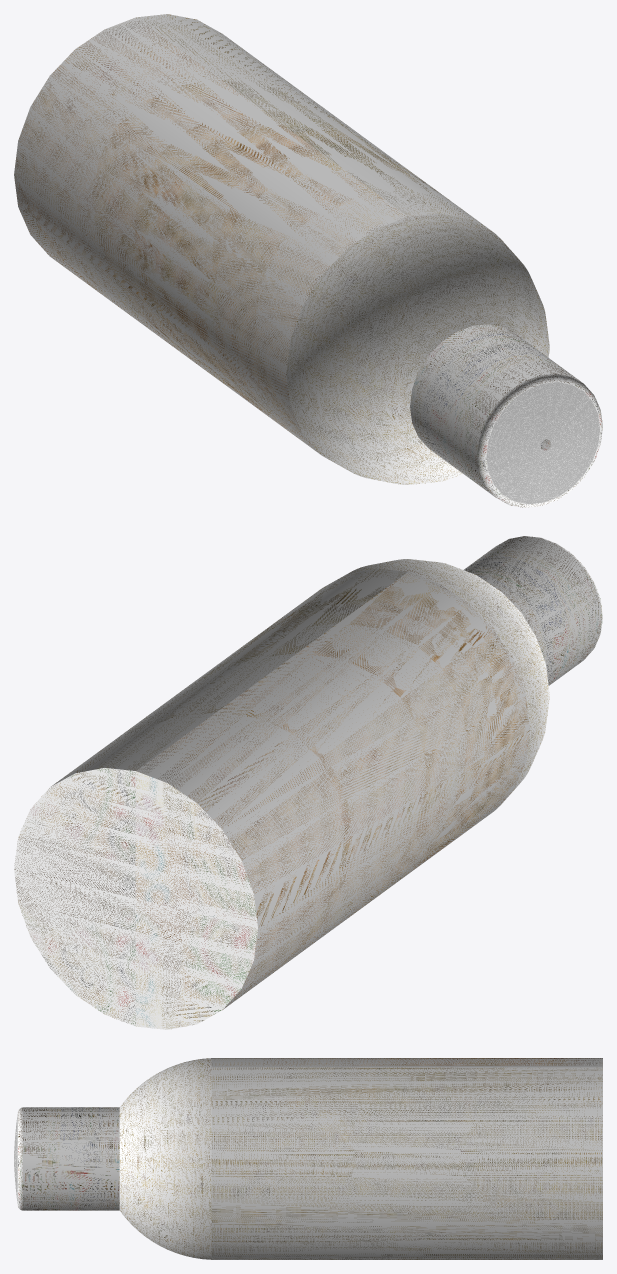
Rendered from model_scale.obj.
3 views of the same model, one above another, from view 1: azimuth 30°, elevation 25°; view 2: azimuth 150°, elevation 25°; view 3: azimuth 270°, elevation 25° (orthographic). The views are drawn at different scales.
Visible parts, largest first — view 1: mesh1_mesh1-geometry; view 2: mesh1_mesh1-geometry; view 3: mesh1_mesh1-geometry.
Part boxes in pixels (x1,y1,x2,y2): mesh1_mesh1-geometry: (14,14,602,507); mesh1_mesh1-geometry: (14,536,602,1029); mesh1_mesh1-geometry: (14,1058,602,1259).
Size of the model in its own units: 0.0919 by 0.0919 by 0.2673.
